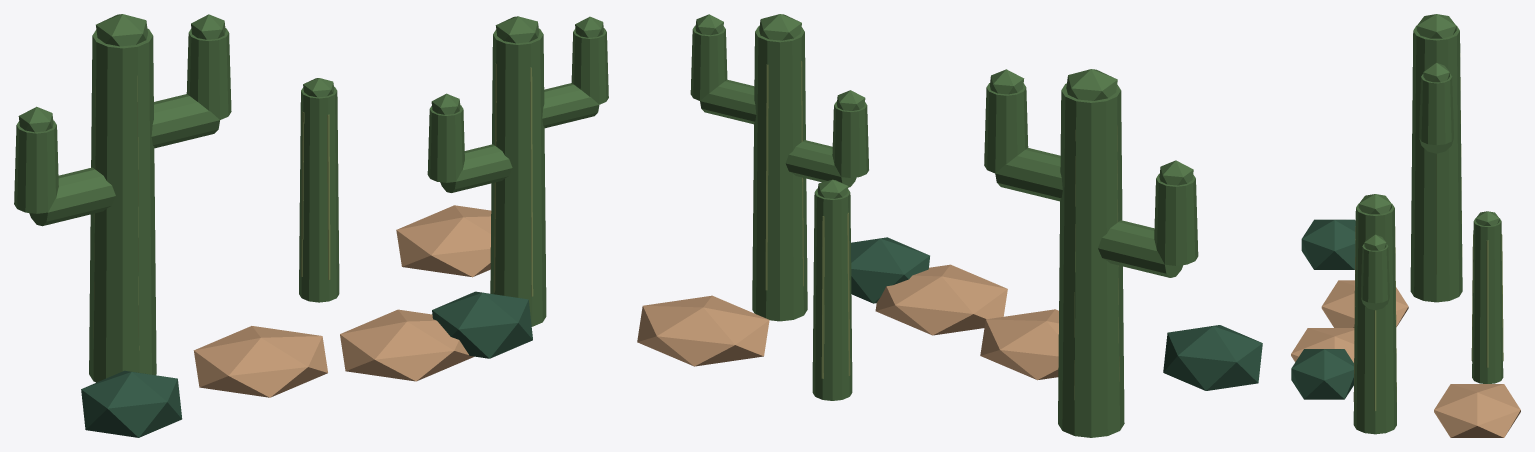
The model's file is Desert_CactusGarden_Standard.glb.
3 renders of one model, left to right at view 1: azimuth 30°, elevation 25°; view 2: azimuth 150°, elevation 25°; view 3: azimuth 270°, elevation 25°, orthographic. The views are drawn at different scales.
Visible parts, largest first — view 1: Desert_CactusGarden_Standard; view 2: Desert_CactusGarden_Standard; view 3: Desert_CactusGarden_Standard.
Boxes of the visible parts, <box> form: Desert_CactusGarden_Standard: <box>14,14,608,437</box>; Desert_CactusGarden_Standard: <box>637,14,1262,437</box>; Desert_CactusGarden_Standard: <box>1291,14,1520,437</box>.
Size of the model in its own units: 4.79 by 3 by 2.25.
